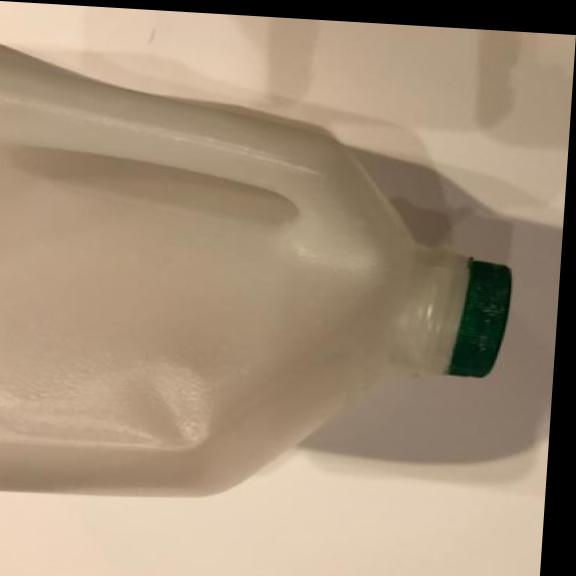Plastik: (0, 39, 533, 524)
